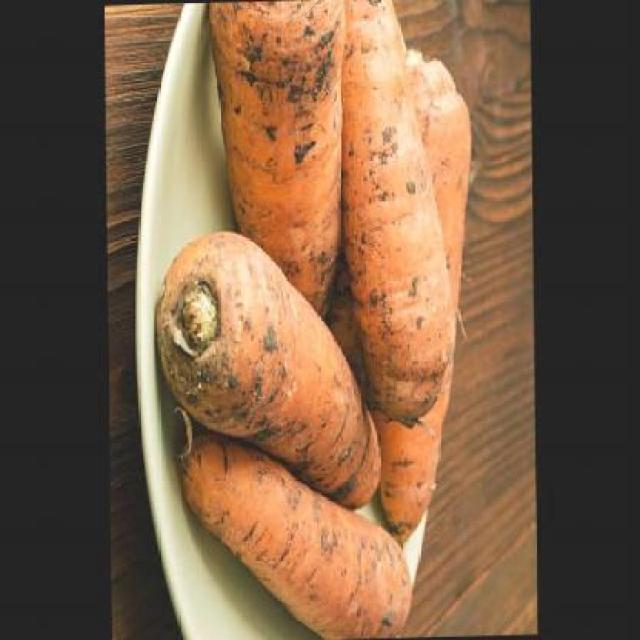carrot: (155, 229, 379, 516), (320, 0, 454, 434), (373, 47, 476, 551), (204, 0, 350, 323), (177, 438, 412, 638)
